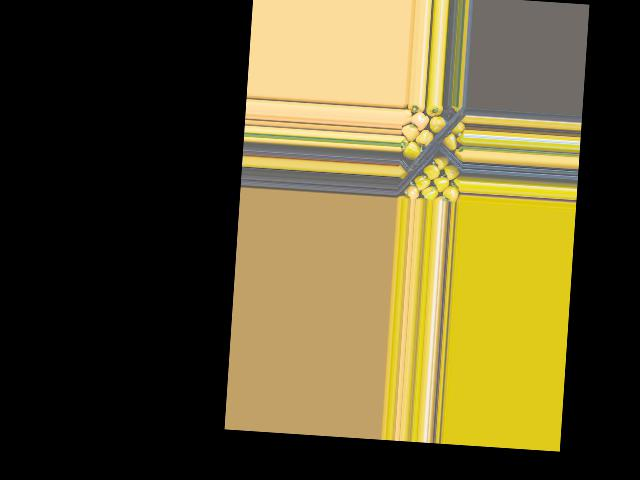bell_pepper: (444, 182, 461, 202)
